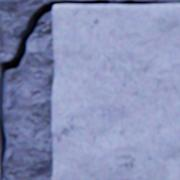brick: (53, 4, 179, 179), (0, 154, 1, 179)
crack: (0, 0, 179, 179)
